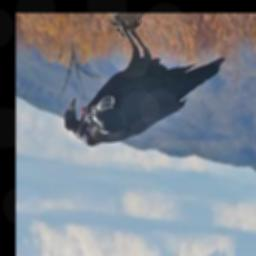Crow: (63, 15, 226, 149)
